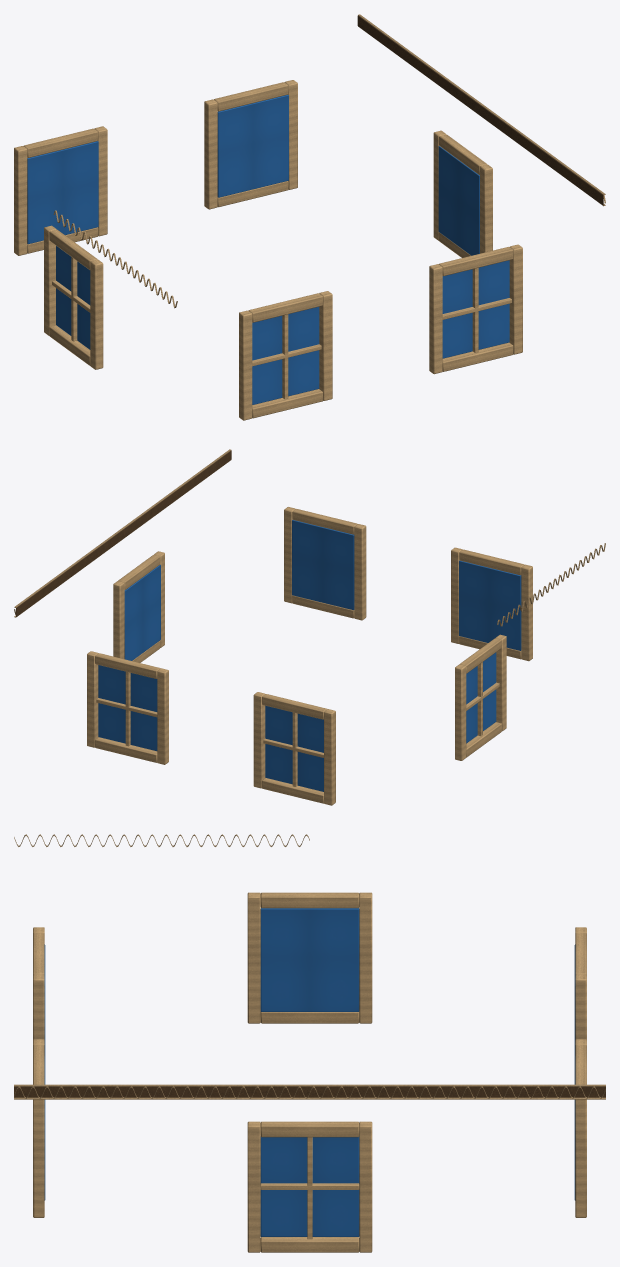
The model's file is 6-upper-box-1-2.fbx.
The picture shows the model from 3 angles, top to bottom: view 1: azimuth 30°, elevation 25°; view 2: azimuth 150°, elevation 25°; view 3: azimuth 270°, elevation 25°; orthographic projection. The views are drawn at different scales.
Parts seen in each view (by area): view 1: upper-box-1-2; view 2: upper-box-1-2; view 3: upper-box-1-2.
Boxes of the visible parts, bbox=[...] form: upper-box-1-2: bbox=[14, 14, 605, 420]; upper-box-1-2: bbox=[14, 449, 605, 805]; upper-box-1-2: bbox=[14, 834, 605, 1252].
Size of the model in its own units: 7672 by 2500 by 7600.
1 material, 1 textured.
